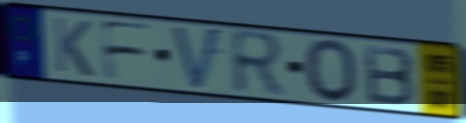B: (360, 42, 418, 108)
F: (96, 18, 156, 83)
K: (51, 15, 96, 80)
O: (302, 37, 360, 105)
R: (228, 27, 288, 100)
V: (169, 23, 225, 94)
